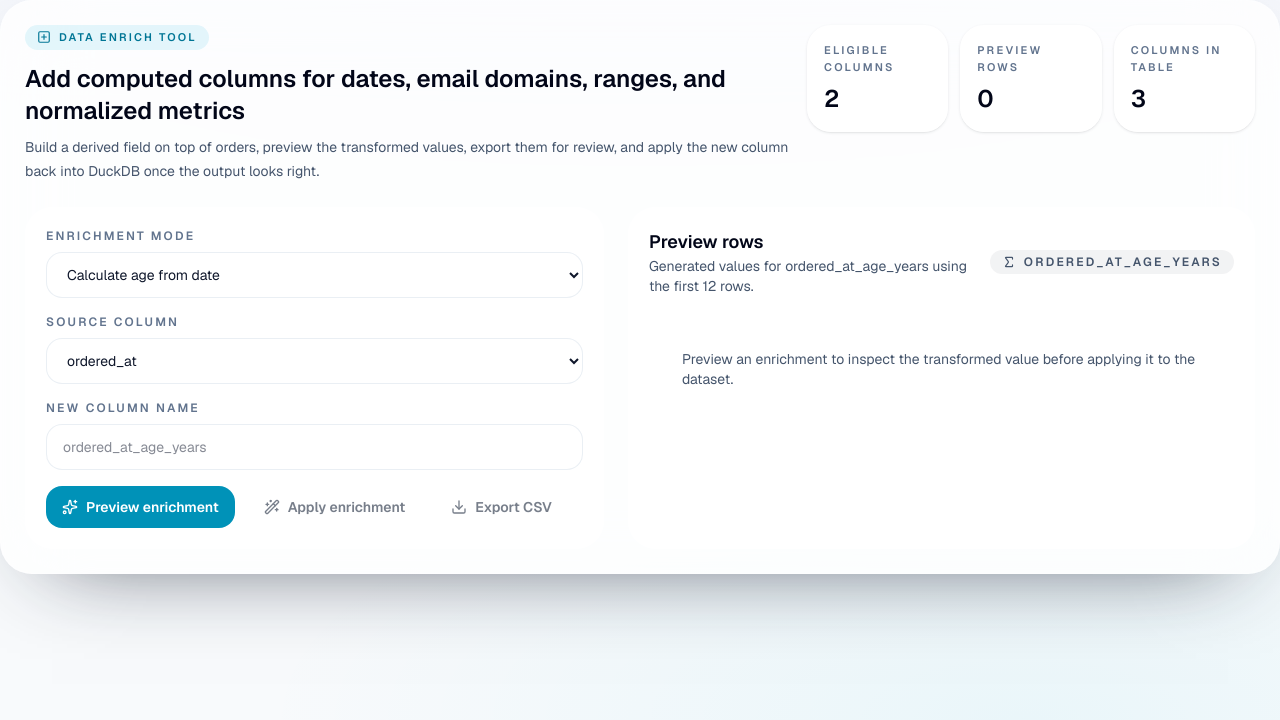
Test: DataEnrichTool › previews age-from-date enrichment
Click the button "Preview enrichment": [140, 507] box left=46, top=486, right=235, bottom=528
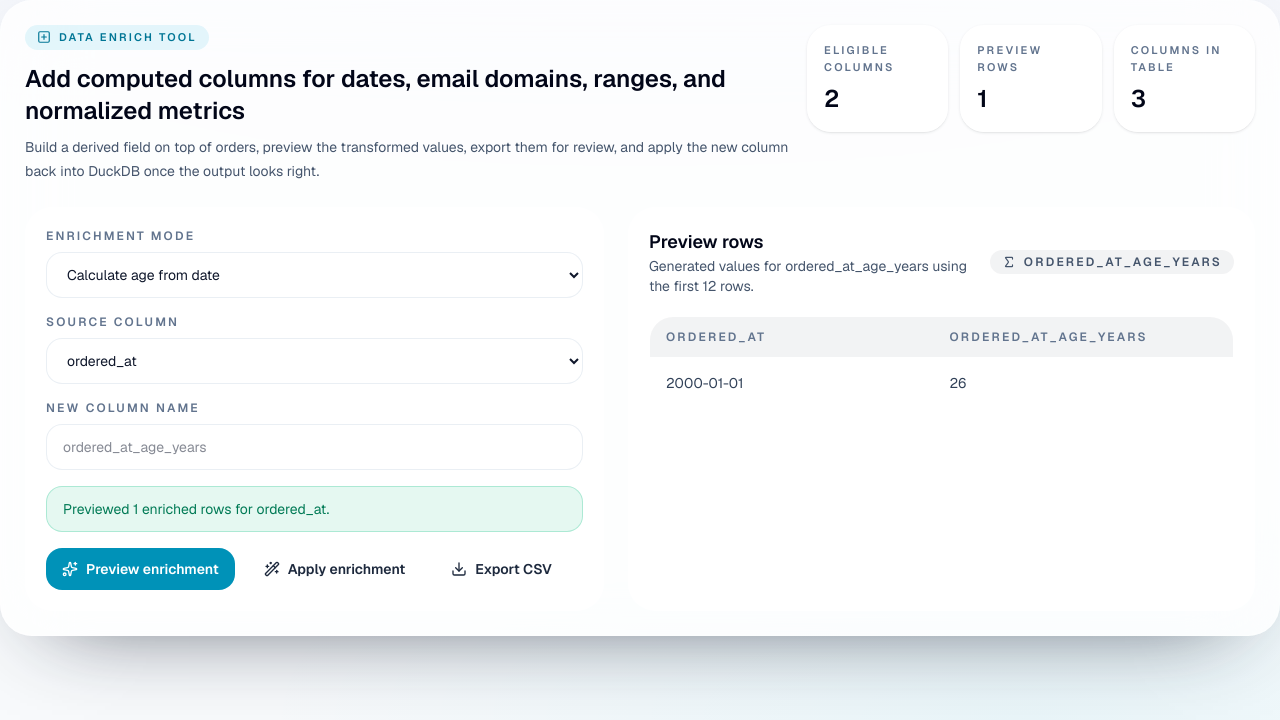
Check: the text "26" is shown, box left=949, top=374, right=966, bottom=392
Check: the text "Previewed 1 enriched rows for ordered_at." is shown, box left=46, top=486, right=583, bottom=532
